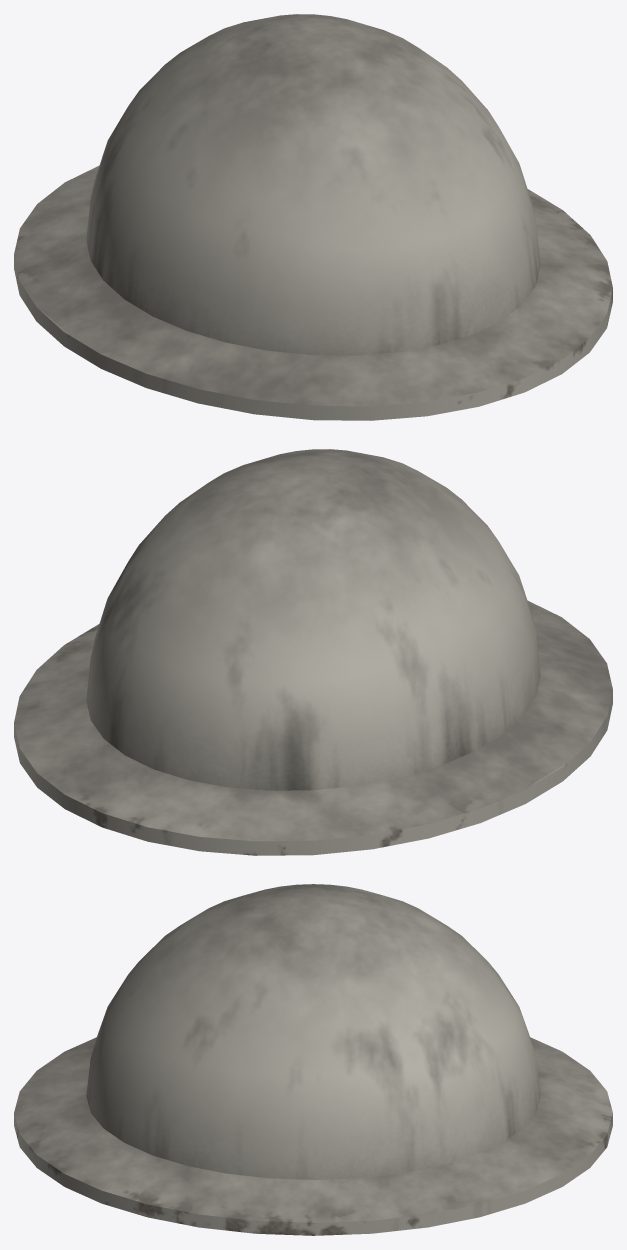
The model's file is SM_HardHat.fbx.
3 views of the same model, one above another, from view 1: azimuth 30°, elevation 25°; view 2: azimuth 150°, elevation 25°; view 3: azimuth 270°, elevation 25° (orthographic). The views are drawn at different scales.
Visible parts, largest first — view 1: SM_HardHat; view 2: SM_HardHat; view 3: SM_HardHat.
Part boxes in pixels (x1,y1,x2,y2): SM_HardHat: (14, 14, 612, 420); SM_HardHat: (14, 449, 612, 855); SM_HardHat: (14, 884, 612, 1235).
Size of the model in its own units: 0.29 by 0.138 by 0.3335.
Materials: 1 (1 with a texture image).
